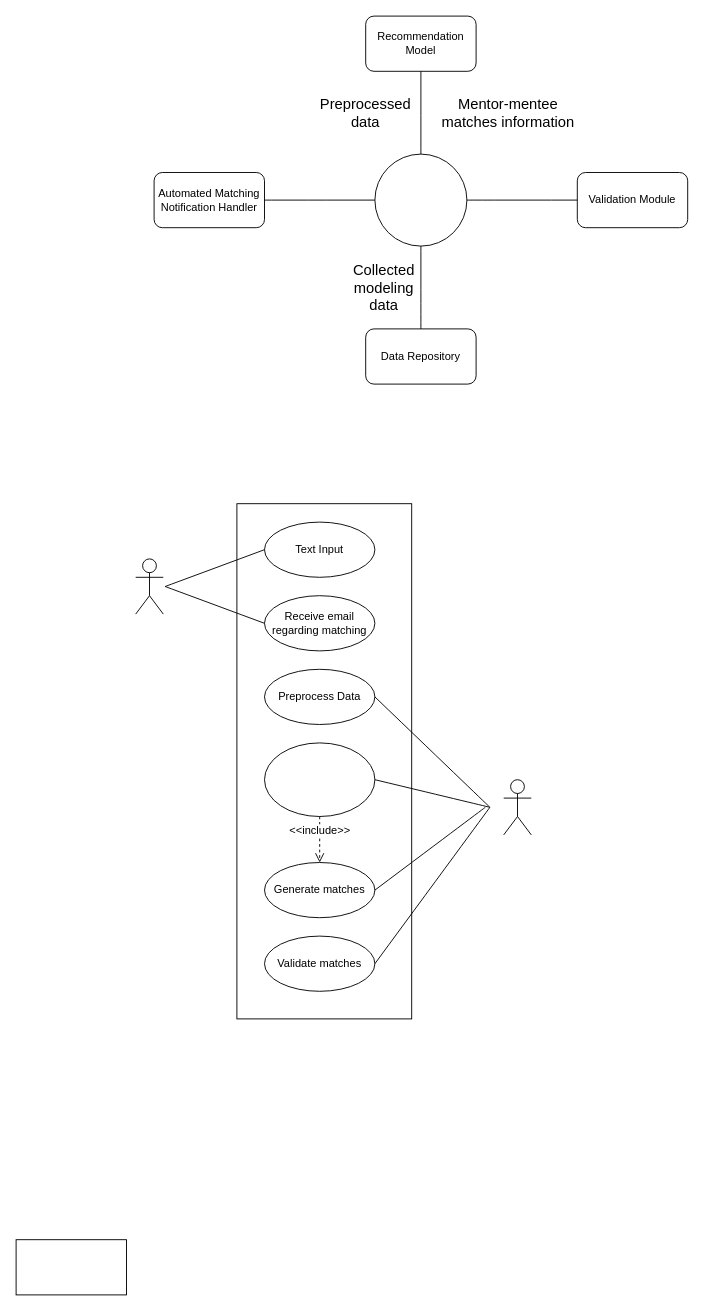
The diagram is 704 pixels wide and 1311 high, and some of its shapes have lost their labels. Here are the shapes that lost their labels. From the top down, the centre of each, then its label:
At [420,199]: "Reciprocal Recommendation System".
At [149,586]: "Participant".
At [319,779]: "Run multi-objective recommendation algorithm".
At [517,807]: "System".
At [70,1267]: "User".
